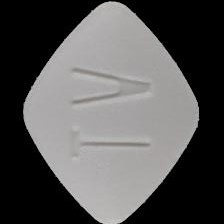0093-2068: (0, 0, 224, 224)
